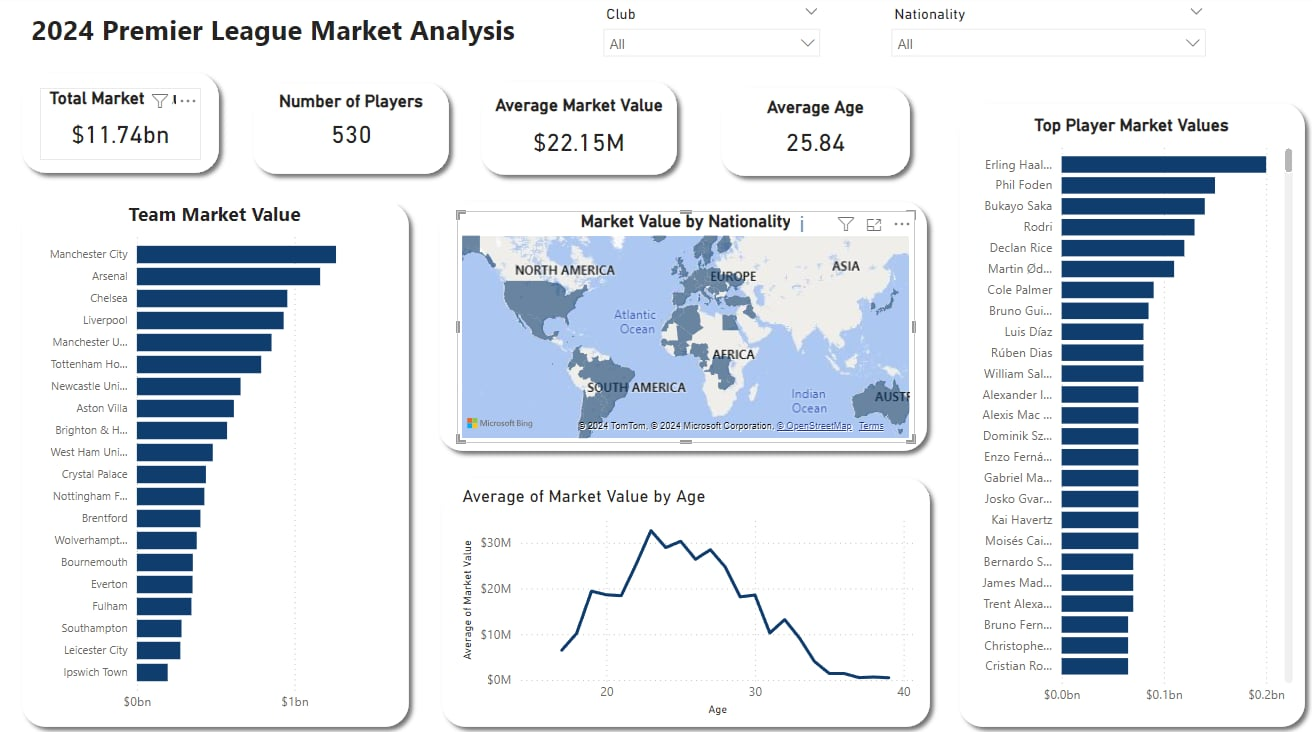

What the dashboard file says about the page in this screenshot:
{"tool":"powerbi","page":{"name":"Dashboard","canvas":[1280,720],"ordinal":0},"visuals":[{"type":"textbox","box":[27.2,8.8,505.8,49.6],"z":0},{"type":"shape","box":[14.6,66.1,209.1,114.8],"z":1000},{"type":"card","title":"Total Market Value","fields":{"Values":["2024 Premier League Dataset(Players). Market Value"]},"box":[40.9,89.5,156.6,70],"z":2000},{"type":"shape","box":[239.3,75.9,208.1,106],"z":3000},{"type":"card","title":"Number of Players","fields":{"Values":["2024 Premier League Dataset(Players).Name"]},"box":[266.5,92.4,153.7,63.2],"z":4000},{"type":"shape","box":[461,74.9,208.1,108],"z":5000},{"type":"card","title":"Average Market Value","fields":{"Values":["2024 Premier League Dataset(Players). Market Value"]},"box":[478.5,96.3,173.1,71],"z":6000},{"type":"shape","box":[694.5,79.8,201.3,104.1],"z":7000},{"type":"card","title":"Average Age","fields":{"Values":["2024 Premier League Dataset(Players).Age"]},"box":[720.7,98.2,148.8,68.1],"z":8000},{"type":"shape","box":[14.6,191.6,393.9,528.1],"z":9000},{"type":"clusteredBarChart","title":"Team Market Value","fields":{"Category":["2024 Premier League Dataset(Players).Club"],"Y":["2024 Premier League Dataset(Players). Market Value"]},"box":[33.1,198.4,355,505.8],"z":10000},{"type":"slicer","fields":{"Values":["2024 Premier League Dataset(Players).Nationality"]},"box":[858.8,3.9,325.8,59.3],"z":11000},{"type":"slicer","fields":{"Values":["2024 Premier League Dataset(Players).Club"]},"box":[578.7,3.9,231.5,64.2],"z":12000},{"type":"shape","box":[420.2,191.6,492.2,259.7],"z":13000},{"type":"filledMap","title":"Market Value by Nationality","fields":{"Category":["2024 Premier League Dataset(Players).Nationality"]},"box":[446.4,209.1,445.5,225.7],"z":14000},{"type":"shape","box":[423.1,460.1,492.2,259.7],"z":15000},{"type":"lineChart","fields":{"Category":["2024 Premier League Dataset(Players).Age"],"Y":["2024 Premier League Dataset(Players). Market Value"]},"box":[446.4,476.6,449.4,227.6],"z":16000},{"type":"shape","box":[926,95.3,354,624.4],"z":17000},{"type":"clusteredBarChart","title":"Top Player Market Values","fields":{"Category":["2024 Premier League Dataset(Players).Name"],"Y":["2024 Premier League Dataset(Players). Market Value"]},"box":[940.5,115.7,323.9,581.6],"z":18000}]}

Visuals, with their boxes in screenshot pixels (x1, y1, x2, y2), scaled from the page's 1280x720 canvas onto the 1312x732 screenshot:
textbox: crop(28, 9, 546, 59)
shape: crop(15, 67, 229, 184)
"Total Market Value" card: crop(42, 91, 202, 162)
shape: crop(245, 77, 459, 185)
"Number of Players" card: crop(273, 94, 431, 158)
shape: crop(473, 76, 686, 186)
"Average Market Value" card: crop(490, 98, 668, 170)
shape: crop(712, 81, 918, 187)
"Average Age" card: crop(739, 100, 891, 169)
shape: crop(15, 195, 419, 731)
"Team Market Value" clusteredBarChart: crop(34, 202, 398, 716)
slicer - 2024 Premier League Dataset(Players).Nationality: crop(880, 4, 1214, 64)
slicer - 2024 Premier League Dataset(Players).Club: crop(593, 4, 830, 69)
shape: crop(431, 195, 935, 459)
"Market Value by Nationality" filledMap: crop(458, 213, 914, 442)
shape: crop(434, 468, 938, 731)
lineChart - 2024 Premier League Dataset(Players).Age x 2024 Premier League Dataset(Players). Market Value: crop(458, 485, 918, 716)
shape: crop(949, 97, 1311, 731)
"Top Player Market Values" clusteredBarChart: crop(964, 118, 1296, 709)
